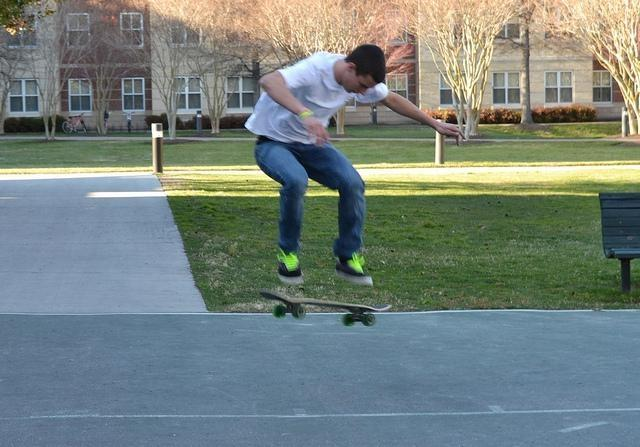bicycle: (62, 112, 87, 134)
